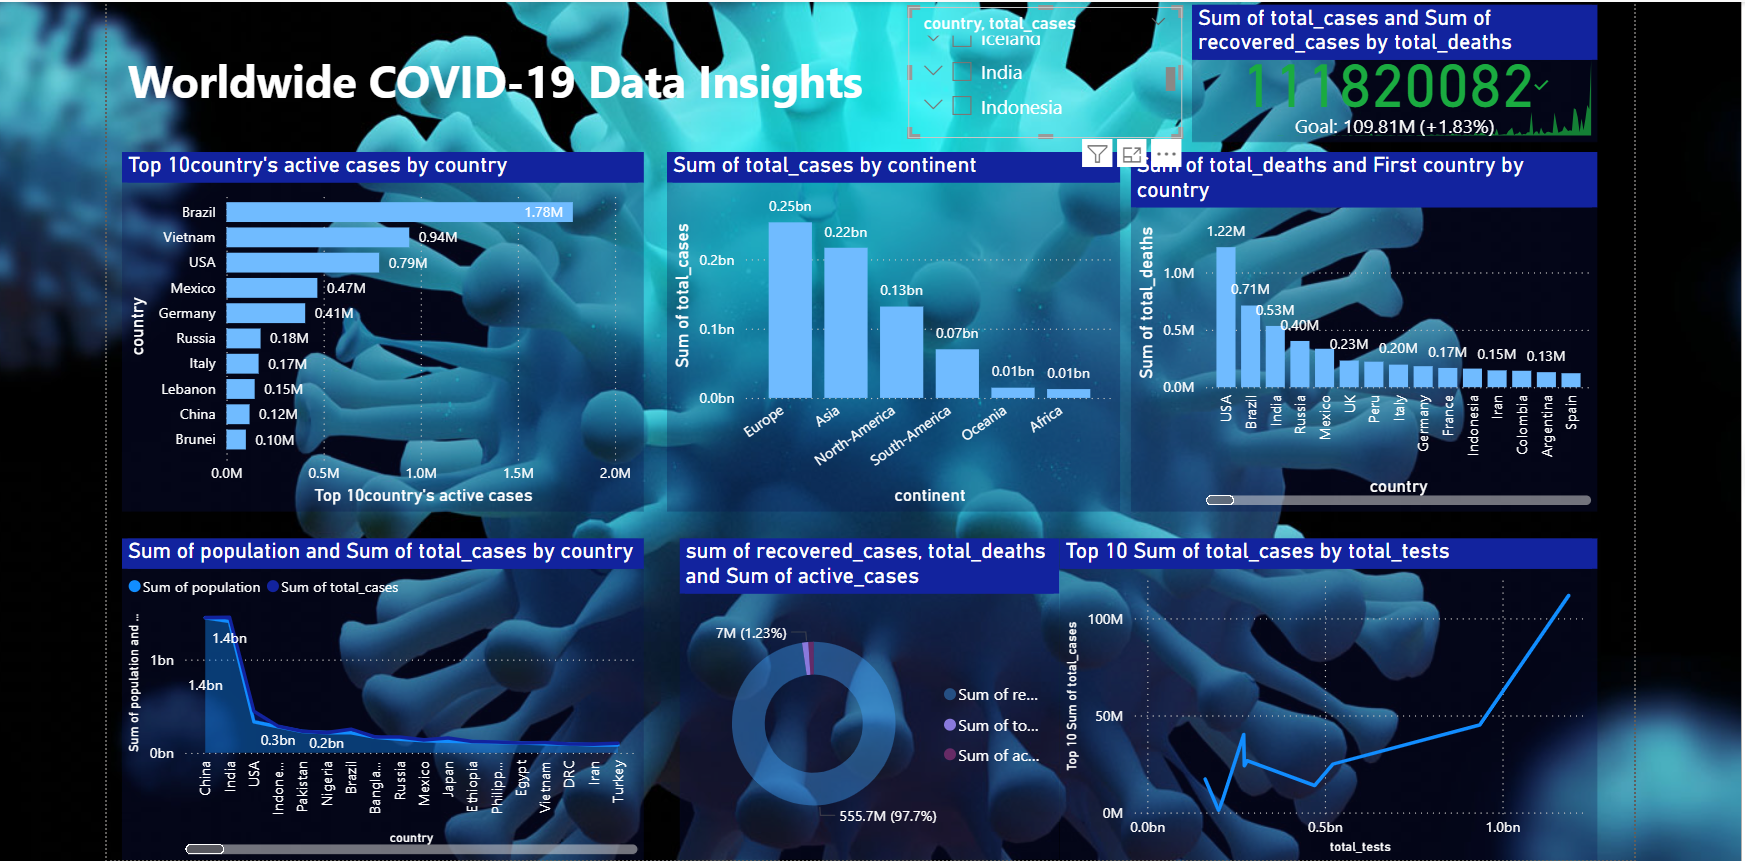

The dashboard page shown, as its layout file describes it:
{"tool":"powerbi","page":{"name":"Page 1","canvas":[1280,720],"ordinal":0},"visuals":[{"type":"kpi","fields":{"Goal":["Sum(covid.recovered_cases)"],"TrendLine":["covid.total_deaths"],"Indicator":["Sum(covid.total_cases)"]},"box":[910,2.5,340,115],"z":0},{"type":"columnChart","fields":{"Category":["covid.country"],"Y":["Sum(covid.total_deaths)"]},"box":[858.8,126.2,391.2,301.2],"z":1000},{"type":"barChart","fields":{"Category":["covid.country"],"Y":["Sum(covid.active_cases)"]},"box":[12.5,126.2,437.5,301.2],"z":2000},{"type":"donutChart","title":" sum of recovered_cases,  total_deaths and Sum of active_cases","fields":{"Y":["Sum(covid.recovered_cases)","Sum(covid.total_deaths)","Sum(covid.active_cases)"]},"box":[480.2,450,318.6,269.8],"z":3000},{"type":"lineChart","fields":{"Category":["covid.total_tests"],"Y":["Sum(covid.total_cases)"]},"box":[798.8,450,451.2,270],"z":4000},{"type":"columnChart","fields":{"Category":["covid.continent"],"Y":["Sum(covid.total_cases)"]},"box":[470,126.2,380,301.2],"z":5000},{"type":"stackedAreaChart","fields":{"Category":["covid.country"],"Y":["Sum(covid.population)","Sum(covid.total_cases)"]},"box":[12.5,450,437.5,270],"z":6000},{"type":"textbox","box":[12.6,35.6,647.9,66],"z":7000},{"type":"slicer","fields":{"Values":["covid.country","covid.total_cases"]},"box":[672.2,4.4,228.9,110],"z":8000}]}

Visuals, with their boxes in screenshot pixels (x1, y1, x2, y2):
kpi - Sum(covid.recovered_cases) x covid.total_deaths: 1334,30,1734,165
columnChart - covid.country x Sum(covid.total_deaths): 1274,176,1734,530
barChart - covid.country x Sum(covid.active_cases): 278,176,793,530
" sum of recovered_cases,  total_deaths and Sum of active_cases" donutChart: 828,557,1203,860
lineChart - covid.total_tests x Sum(covid.total_cases): 1203,557,1734,860
columnChart - covid.continent x Sum(covid.total_cases): 816,176,1263,530
stackedAreaChart - covid.country x Sum(covid.population): 278,557,793,860
textbox: 278,69,1041,147
slicer - covid.country x covid.total_cases: 1054,32,1324,162
